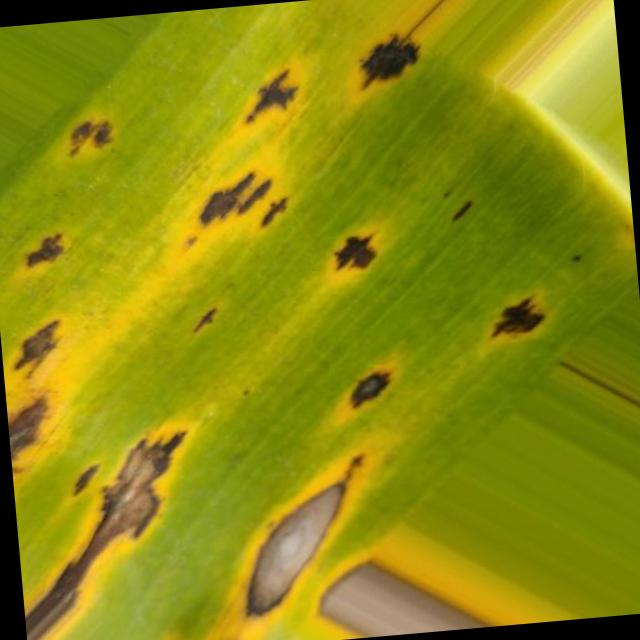Banana_Yellow_Sigatoka: (178, 23, 485, 326), (192, 344, 482, 640), (11, 186, 112, 460), (444, 226, 576, 389), (50, 70, 123, 200)
